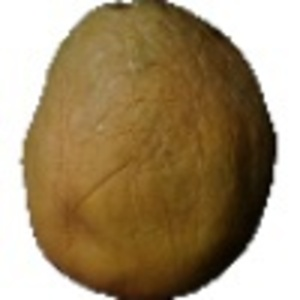mamão: (19, 2, 278, 293)
